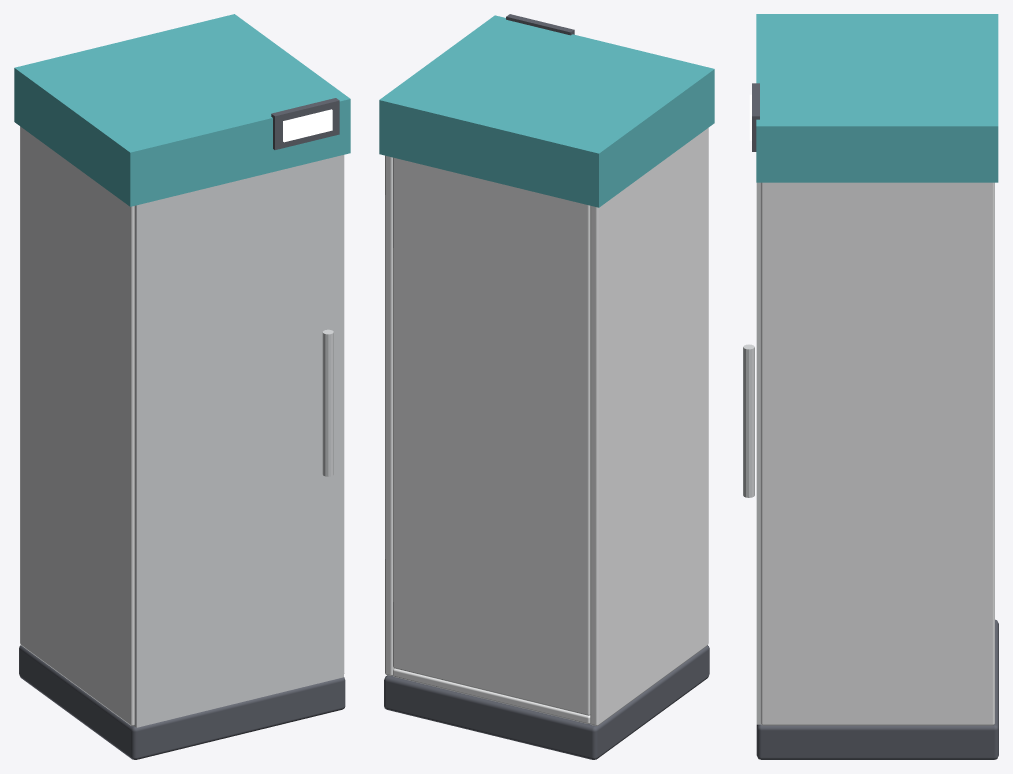
Rendered from pharmacy-and-high-street-chemist-cold-chain-fridge-5df8bd59__37538.glb.
3 renders of one model, left to right at view 1: azimuth 30°, elevation 25°; view 2: azimuth 150°, elevation 25°; view 3: azimuth 270°, elevation 25°, orthographic. The views are drawn at different scales.
Parts seen in each view (by area): view 1: cold-chain-fridge, door-fridge/steel; view 2: cold-chain-fridge; view 3: cold-chain-fridge, door-fridge/steel.
Boxes of the visible parts, <box> form: cold-chain-fridge: <box>14,14,350,759</box>; door-fridge/steel: <box>134,155,343,727</box>; cold-chain-fridge: <box>379,14,714,759</box>; cold-chain-fridge: <box>749,14,998,759</box>; door-fridge/steel: <box>743,182,760,724</box>.
Bounding box in the file's own units: 0.6799 × 1.81 × 0.655.
